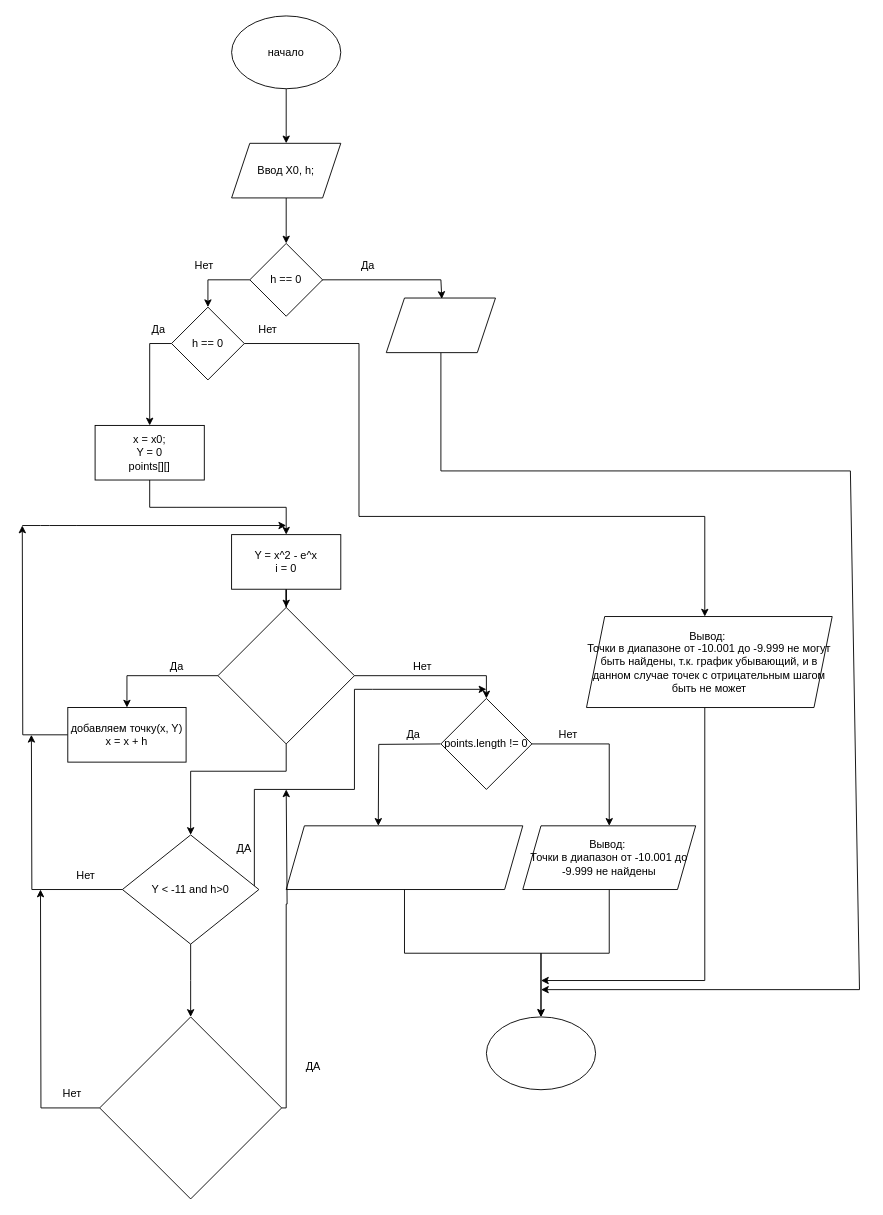
Image size: 883x1215. Some labels were removed from this diagram. The shapes that lost their labels are listed below. From the top down, each one's centre as x and y in pixels, then its label:
At pixel 440 325: "Вывод: Введён неверный шаг".
At pixel 285 675: "-10.001<= Y <= -9.999".
At pixel 404 857: "Вывод: Найдены точки в диапазоне от -10.001 до -9.999, Вывод: points".
At pixel 540 1053: "Конец".
At pixel 190 1107: "Y > -9".
